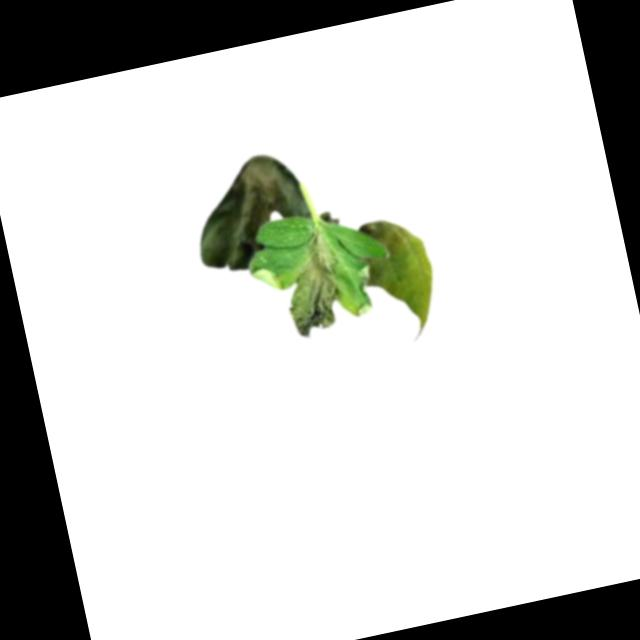Late_blight: (181, 144, 325, 279), (356, 211, 447, 348), (273, 229, 349, 342)
